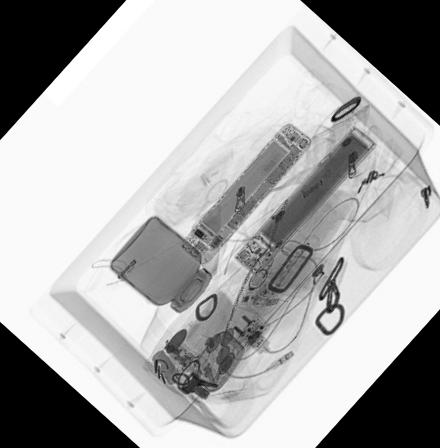Powerbank: (234, 121, 379, 279)
